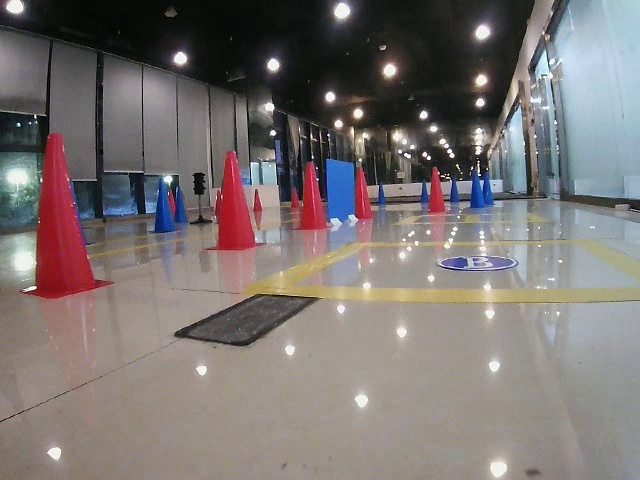B: (437, 251, 515, 271)
